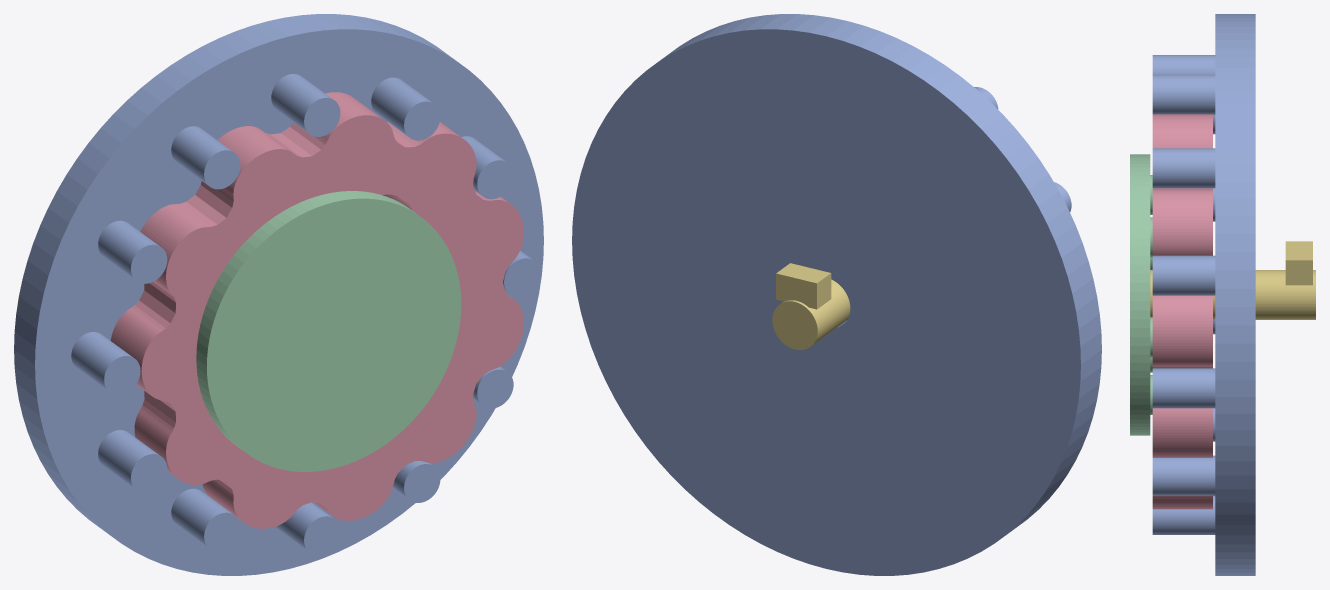
Rendered from cycloidal_drive_demo.glb.
The picture shows the model from 3 angles, left to right: view 1: azimuth 30°, elevation 25°; view 2: azimuth 150°, elevation 25°; view 3: azimuth 270°, elevation 25°; orthographic projection. The views are drawn at different scales.
Visible parts, largest first — view 1: housing_ring, cycloidal_disc, output_plate; view 2: housing_ring, eccentric_input; view 3: housing_ring, cycloidal_disc, output_plate, eccentric_input.
Boxes of the visible parts, x1=… form: housing_ring: x1=14, y1=14, x2=543, y2=575; cycloidal_disc: x1=110, y1=92, x2=523, y2=528; output_plate: x1=196, y1=191, x2=461, y2=471; housing_ring: x1=572, y1=14, x2=1101, y2=575; eccentric_input: x1=772, y1=263, x2=850, y2=349; housing_ring: x1=1152, y1=14, x2=1255, y2=575; cycloidal_disc: x1=1152, y1=114, x2=1212, y2=509; output_plate: x1=1130, y1=154, x2=1152, y2=435; eccentric_input: x1=1150, y1=241, x2=1315, y2=319.
Size of the model in its own units: 56 by 56 by 18.5.
